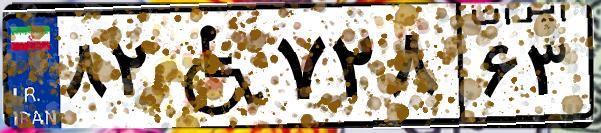2: (330, 28, 385, 110), (110, 28, 158, 98)
3: (525, 38, 570, 115)
6: (475, 38, 525, 113)
7: (270, 28, 330, 110)
8: (385, 28, 445, 110), (57, 26, 110, 100)
ژ (معلولین و جانبازان): (158, 12, 270, 120)
